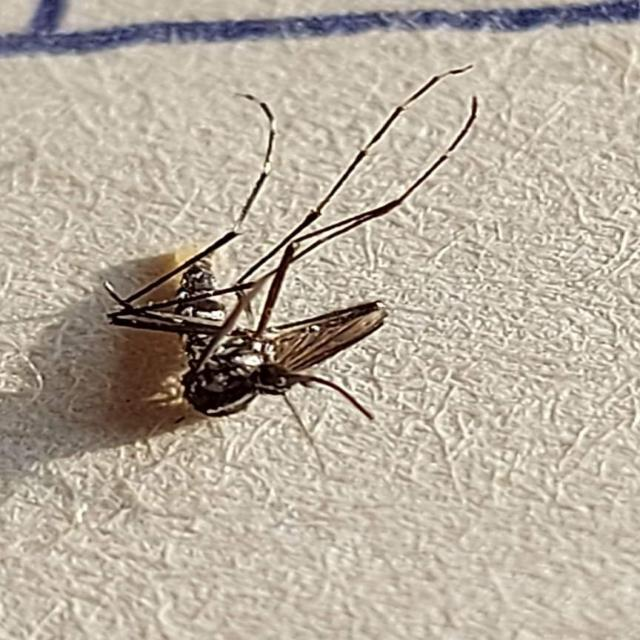albopictus: (73, 36, 515, 470)
